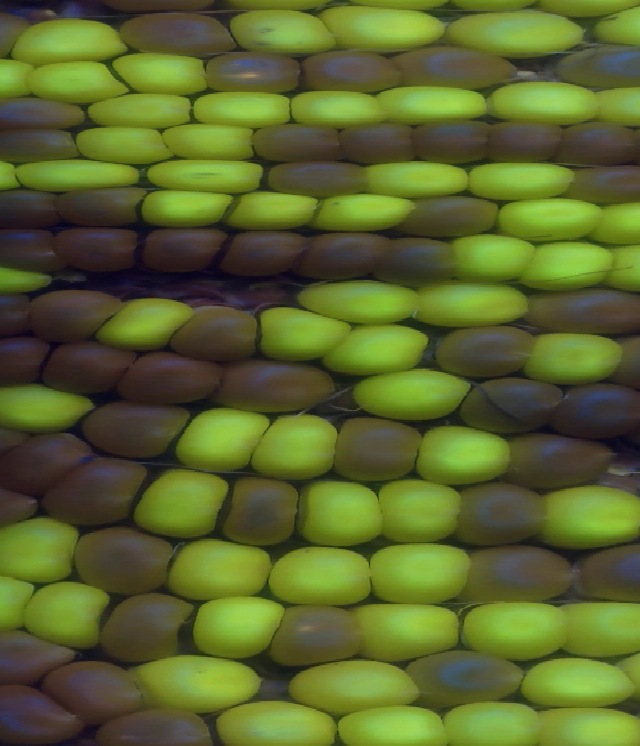fluorescent: (349, 367, 473, 429), (132, 467, 235, 539), (287, 661, 426, 714), (517, 651, 640, 710), (445, 13, 590, 63), (129, 652, 259, 707), (246, 403, 337, 481), (173, 402, 270, 475), (542, 478, 640, 548), (195, 585, 279, 665), (356, 601, 457, 666), (169, 537, 271, 601), (375, 472, 462, 547), (297, 477, 389, 546), (311, 317, 433, 369), (0, 376, 104, 437), (408, 277, 542, 324), (459, 601, 575, 654), (228, 8, 346, 60), (9, 154, 147, 198), (265, 548, 373, 603), (519, 236, 618, 295), (0, 511, 80, 584), (328, 3, 451, 50), (294, 283, 417, 330), (100, 291, 200, 348), (24, 582, 106, 650), (483, 80, 604, 126), (523, 327, 630, 379), (366, 544, 475, 595), (23, 53, 127, 106), (410, 425, 506, 481), (259, 307, 349, 366), (16, 17, 129, 63), (555, 601, 640, 660), (368, 83, 484, 126), (163, 121, 262, 171), (498, 198, 601, 246), (210, 708, 337, 746), (445, 229, 539, 280), (361, 161, 475, 203), (141, 184, 238, 233), (523, 706, 640, 746), (144, 155, 262, 193), (86, 94, 197, 134), (75, 122, 175, 166), (464, 159, 568, 201), (331, 711, 454, 746), (109, 54, 208, 96), (285, 87, 376, 130), (231, 187, 319, 230), (190, 94, 290, 129), (444, 704, 527, 746), (320, 193, 412, 228), (0, 256, 63, 297), (597, 240, 640, 293), (595, 81, 640, 131), (0, 566, 33, 633), (0, 52, 40, 107), (591, 199, 640, 242), (597, 2, 640, 48)
nonfluorescent: (76, 396, 191, 464), (462, 545, 581, 609), (66, 530, 182, 593), (101, 592, 198, 667), (216, 357, 333, 418), (471, 364, 562, 442), (46, 662, 154, 727), (115, 6, 237, 63), (507, 430, 616, 493), (330, 415, 429, 484), (524, 283, 640, 338), (395, 46, 524, 95), (216, 478, 305, 546), (47, 457, 143, 520), (271, 600, 358, 669), (42, 337, 142, 397), (402, 657, 532, 699), (453, 486, 547, 544), (554, 381, 640, 440), (0, 685, 83, 746), (175, 303, 263, 360), (121, 355, 225, 403), (293, 47, 402, 92), (442, 327, 534, 380), (0, 435, 91, 488), (49, 221, 145, 271), (224, 227, 315, 279), (406, 119, 491, 173), (308, 234, 391, 289), (245, 122, 361, 161), (572, 541, 640, 607), (29, 287, 118, 337), (334, 121, 426, 169), (94, 710, 216, 746), (0, 625, 68, 688), (262, 158, 369, 198), (205, 53, 304, 95), (404, 195, 494, 239), (561, 45, 640, 94), (558, 122, 640, 169), (136, 228, 226, 268), (383, 239, 452, 290), (0, 221, 67, 273), (52, 187, 147, 223), (483, 120, 567, 159), (0, 96, 86, 127), (0, 188, 65, 227), (0, 474, 39, 538), (0, 338, 55, 382), (578, 167, 640, 204), (0, 130, 79, 157), (0, 416, 31, 478), (605, 335, 640, 387), (0, 293, 39, 336)
